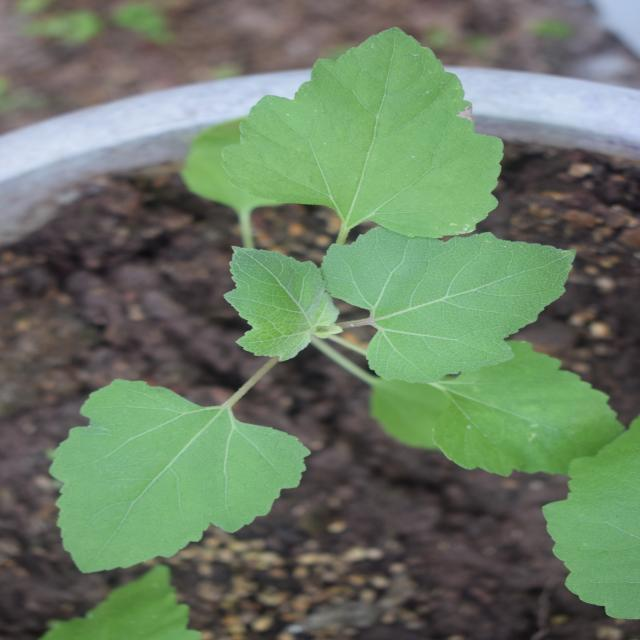cocklebur: (80, 33, 610, 580)
